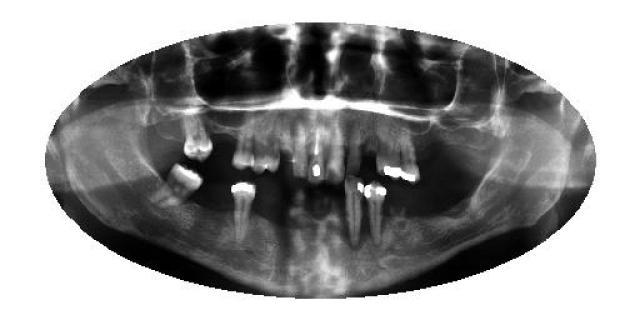Fillings: (154, 162, 202, 218), (229, 180, 259, 244), (363, 182, 388, 242), (344, 174, 364, 246), (378, 128, 402, 178), (399, 132, 421, 182), (308, 122, 324, 182)
